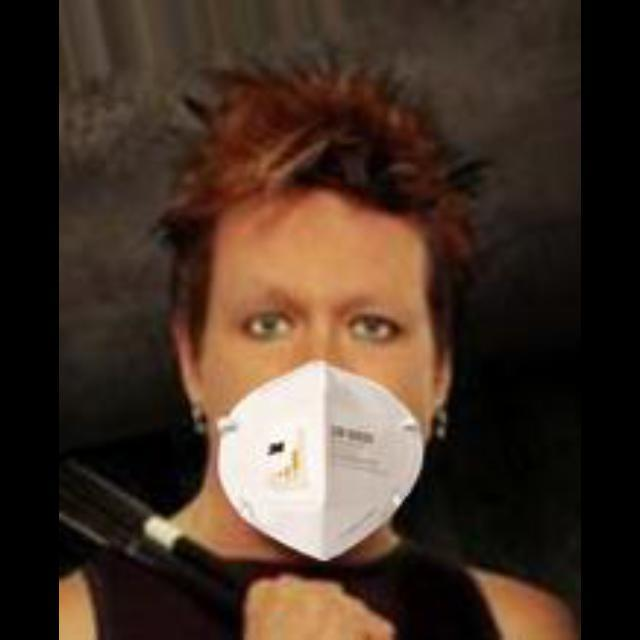suspicion: (163, 91, 477, 554)
